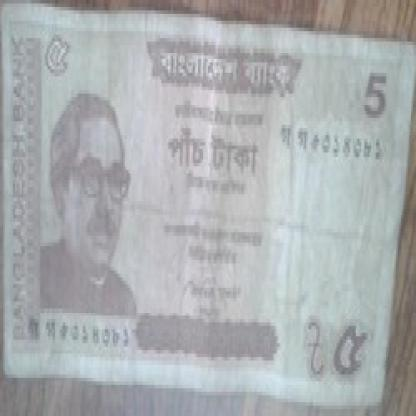Five Taka: (37, 24, 78, 87), (333, 316, 373, 375), (363, 66, 396, 125)
